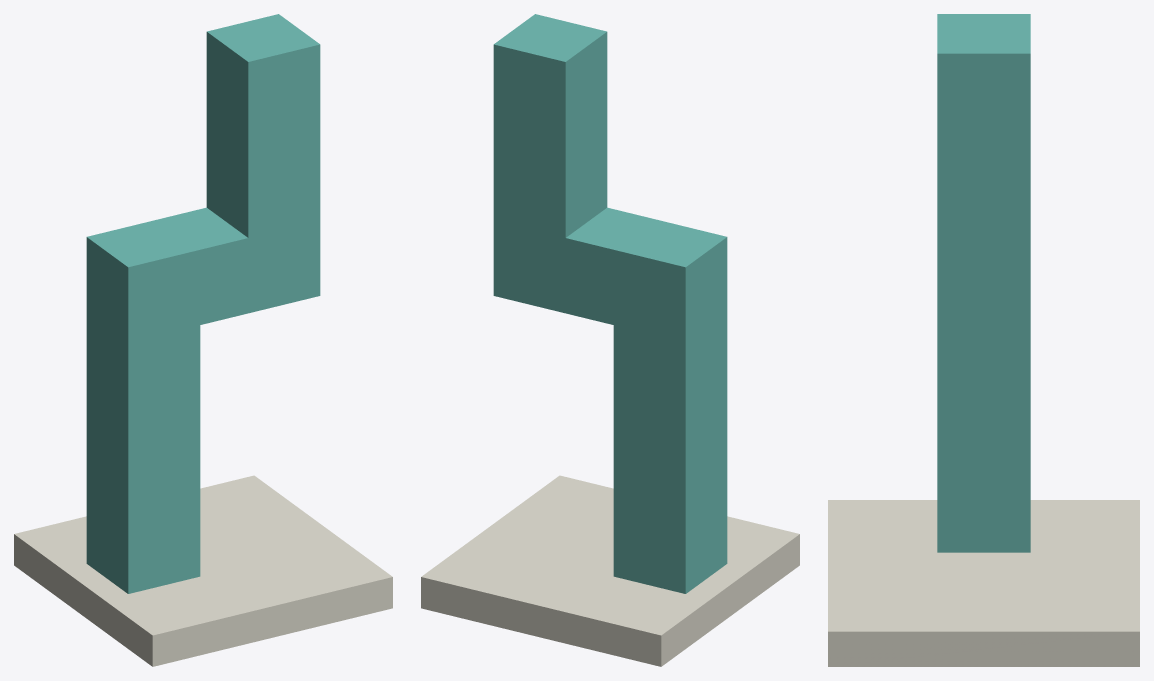
The model's file is voxel-city-districts-abstract-sculpture-eae2dbd2.glb.
3 views of the same model, side by side, from view 1: azimuth 30°, elevation 25°; view 2: azimuth 150°, elevation 25°; view 3: azimuth 270°, elevation 25° (orthographic). The views are drawn at different scales.
Visible parts, largest first — view 1: abstract-sculpture-accent, abstract-sculpture-concrete; view 2: abstract-sculpture-accent, abstract-sculpture-concrete; view 3: abstract-sculpture-accent, abstract-sculpture-concrete.
Part boxes in pixels (bbox=[...]): abstract-sculpture-accent: bbox=[86, 14, 320, 593]; abstract-sculpture-concrete: bbox=[14, 475, 392, 666]; abstract-sculpture-accent: bbox=[493, 14, 727, 593]; abstract-sculpture-concrete: bbox=[421, 475, 799, 666]; abstract-sculpture-accent: bbox=[937, 14, 1030, 552]; abstract-sculpture-concrete: bbox=[828, 500, 1139, 666].
Size of the model in its own units: 2 by 4.25 by 2.
